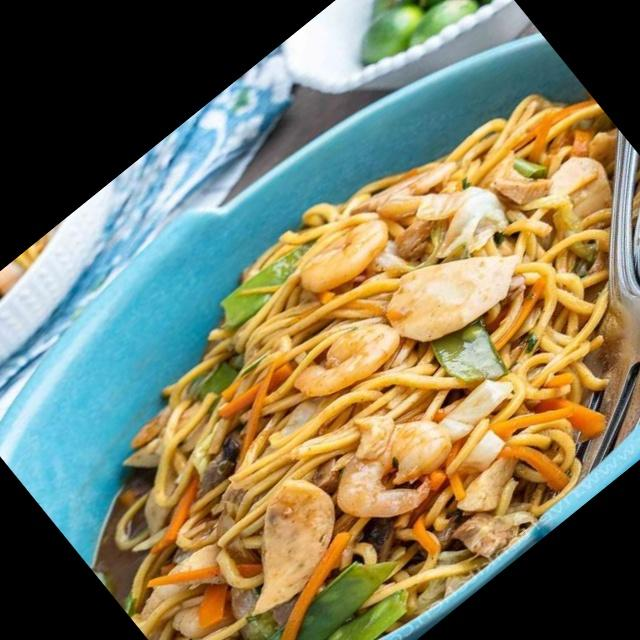pancit bihon: (141, 94, 609, 639)
